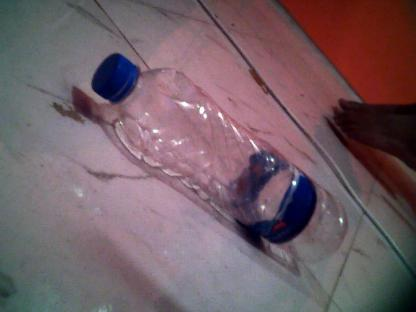Plastic Bottle: (86, 32, 348, 270)
